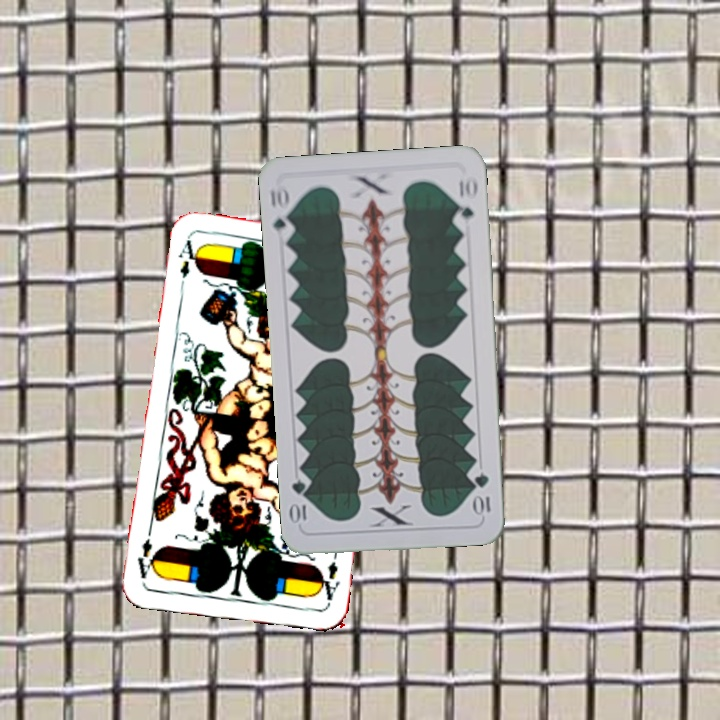EA: (314, 546, 342, 605), (174, 235, 197, 294)
G10: (266, 182, 296, 241), (471, 468, 493, 518)
